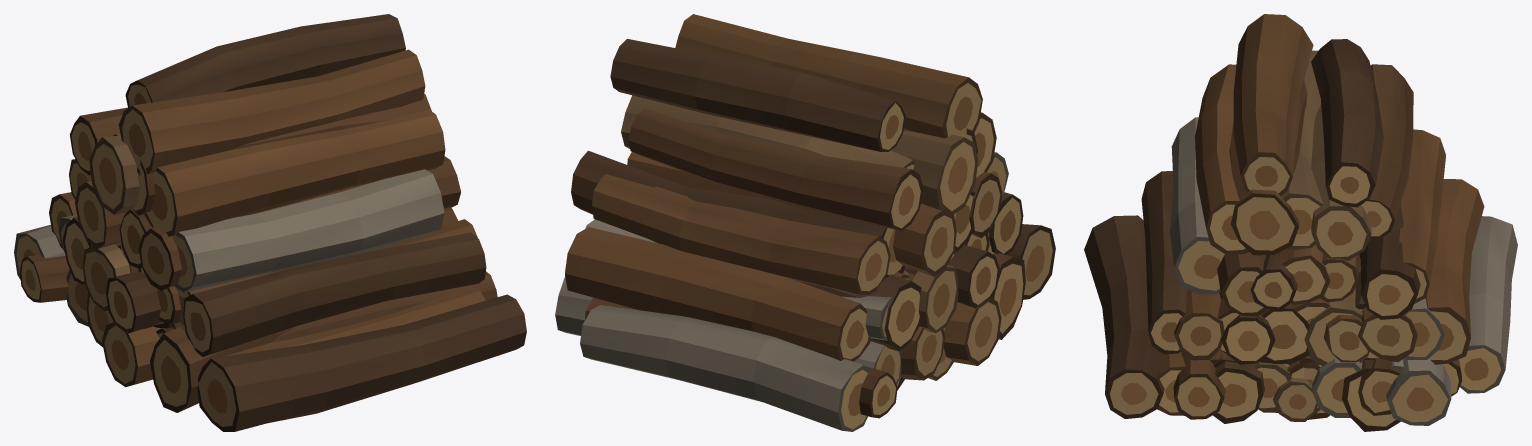
File: wood_pile_tiers.glb
The picture shows the model from 3 angles, left to right: view 1: azimuth 30°, elevation 25°; view 2: azimuth 150°, elevation 25°; view 3: azimuth 270°, elevation 25°; orthographic projection. The views are drawn at different scales.
Parts seen in each view (by area): view 1: pile_firewood_20_mesh, pile_firewood_14_mesh, pile_firewood_7_mesh, pile_firewood_5_mesh; view 2: pile_firewood_20_mesh, pile_firewood_14_mesh, pile_firewood_7_mesh, pile_firewood_5_mesh; view 3: pile_firewood_20_mesh, pile_firewood_14_mesh, pile_firewood_5_mesh, pile_firewood_7_mesh, pile_firewood_1_mesh.
Boxes of the visible parts, x1,y1,x2,y2 form: pile_firewood_20_mesh: (14,14,526,431); pile_firewood_14_mesh: (20,94,485,356); pile_firewood_7_mesh: (62,207,497,347); pile_firewood_5_mesh: (82,244,161,333); pile_firewood_20_mesh: (555,14,1055,431); pile_firewood_14_mesh: (571,95,1002,418); pile_firewood_7_mesh: (797,233,989,380); pile_firewood_5_mesh: (897,245,999,390); pile_firewood_20_mesh: (1084,14,1517,425); pile_firewood_14_mesh: (1157,80,1462,419); pile_firewood_5_mesh: (1213,287,1400,431); pile_firewood_7_mesh: (1173,271,1403,419); pile_firewood_1_mesh: (1273,378,1317,421).
Size of the model in its own units: 1.26 by 1.01 by 1.44.
